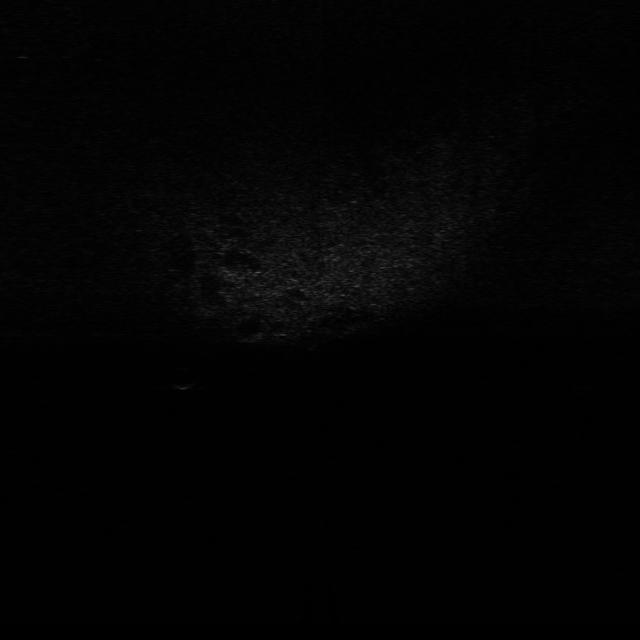ball: (167, 363, 202, 392)
